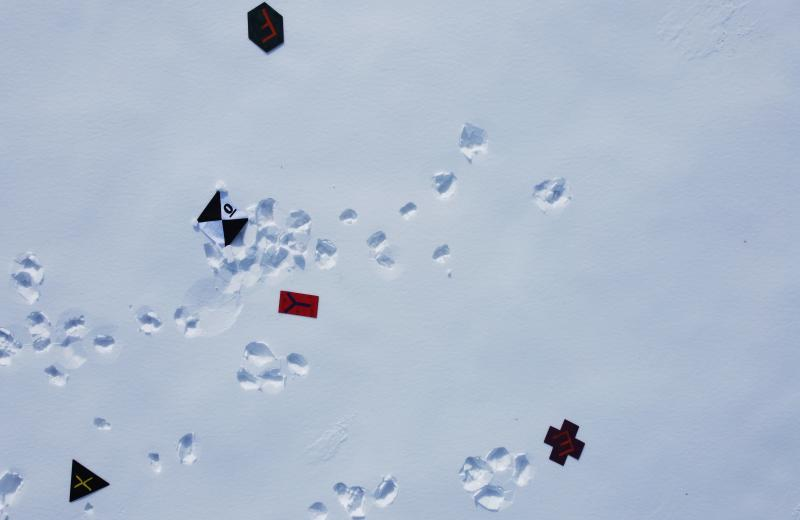Cross: (543, 416, 587, 468)
Hexagon: (245, 1, 287, 55)
Rectangle: (278, 288, 321, 321)
Triangle: (67, 456, 110, 505)
